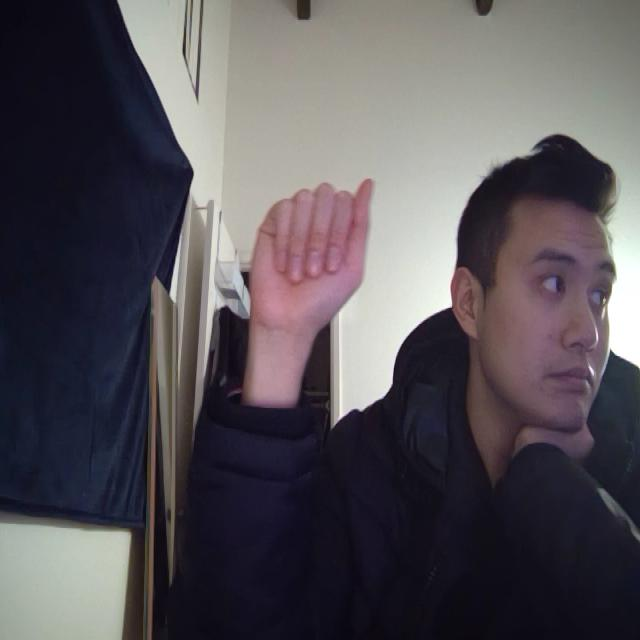A: (234, 155, 403, 361)
